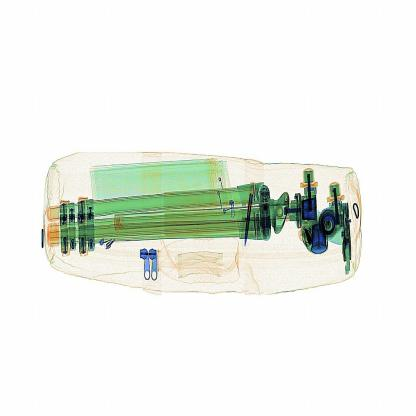gun: (232, 167, 264, 251)
